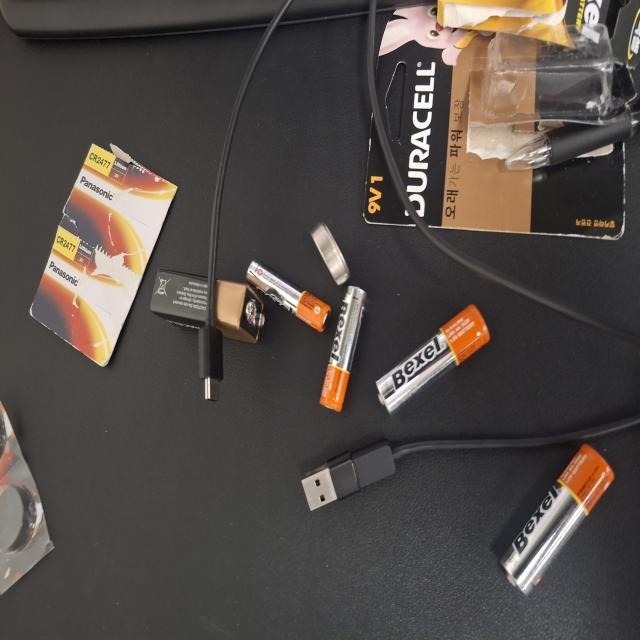9V: (222, 201, 279, 352)
AA: (168, 502, 252, 640)
AAA: (170, 426, 267, 490), (232, 329, 286, 442)
COIN: (266, 413, 315, 468)
